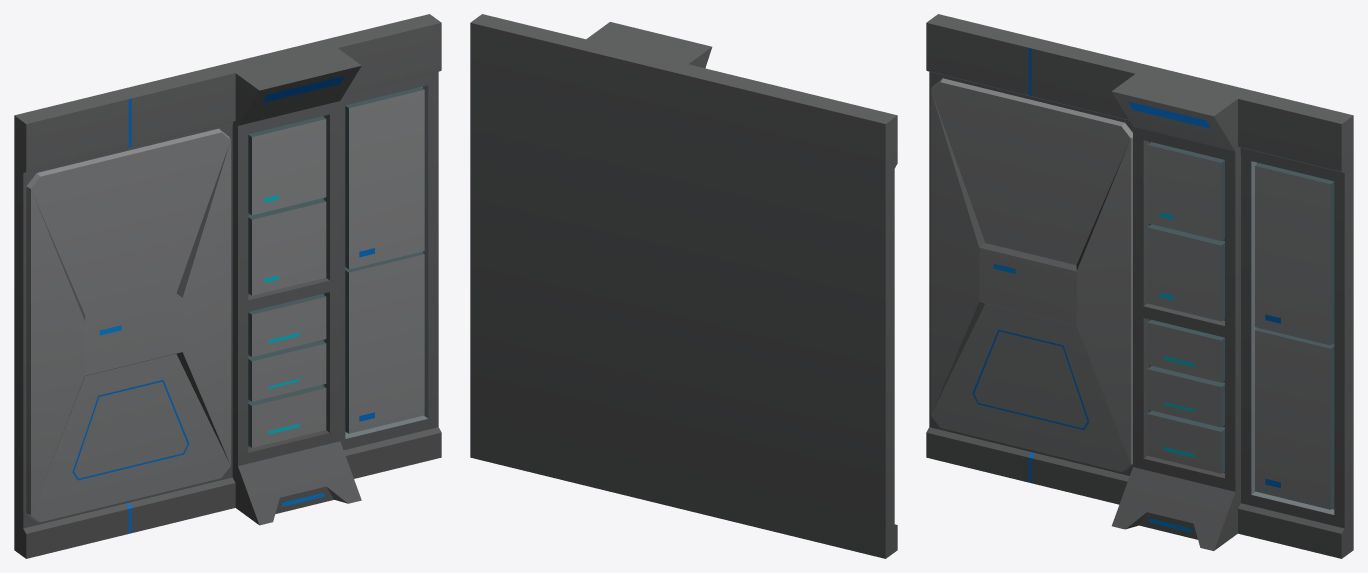
The model's file is Wall_type_B_010.fbx.
The picture shows the model from 3 angles, left to right: view 1: azimuth 30°, elevation 25°; view 2: azimuth 150°, elevation 25°; view 3: azimuth 330°, elevation 25°; orthographic projection.
Parts seen in each view (by area): view 1: Wall_type_B_010; view 2: Wall_type_B_010; view 3: Wall_type_B_010.
Part boxes in pixels (x1,y1,x2,y2): Wall_type_B_010: (14,14,441,558); Wall_type_B_010: (470,14,897,558); Wall_type_B_010: (926,14,1353,558).
Size of the model in its own units: 400 by 60 by 400.
